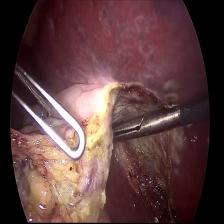Grasper: (12, 61, 92, 174)
Hook: (107, 98, 179, 151)
